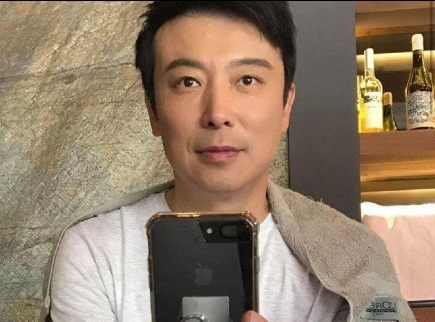male: (126, 8, 325, 197)
